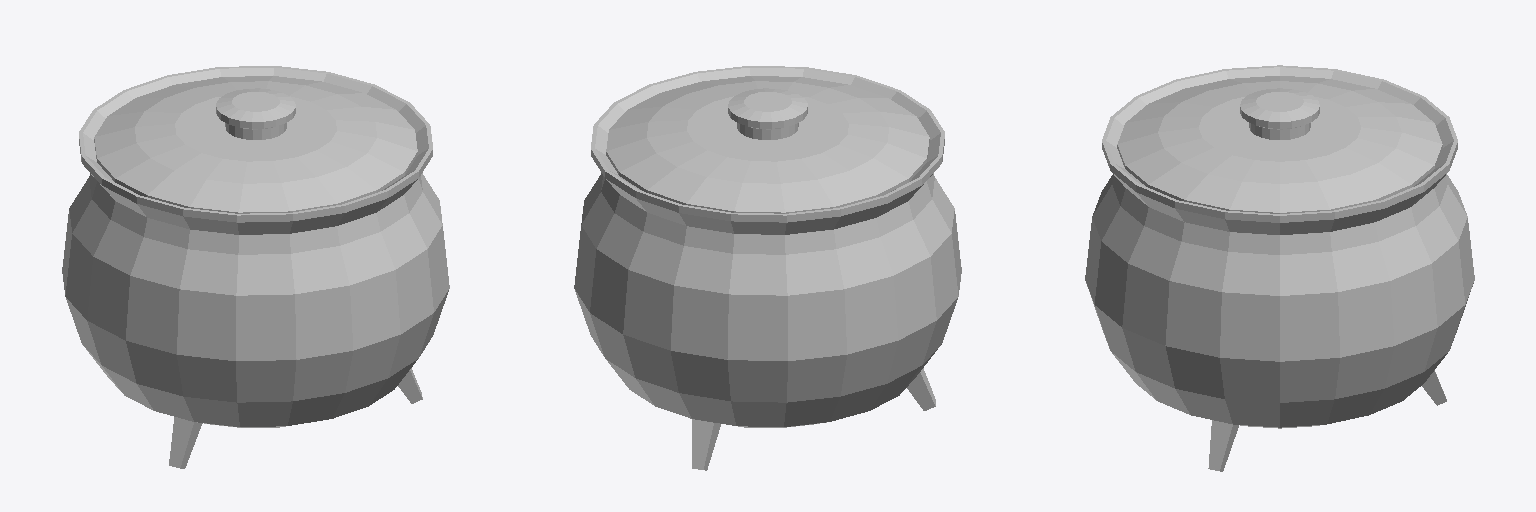
The model's file is cauldron.obj.
3 views of the same model, side by side, from view 1: azimuth 30°, elevation 25°; view 2: azimuth 150°, elevation 25°; view 3: azimuth 270°, elevation 25° (orthographic).
Parts seen in each view (by area): view 1: pCylinder1, pCylinder2; view 2: pCylinder1, pCylinder2; view 3: pCylinder1, pCylinder2.
Boxes of the visible parts, x1,y1,x2,y2 form: pCylinder1: [62, 66, 449, 468]; pCylinder2: [94, 76, 417, 213]; pCylinder1: [574, 66, 961, 470]; pCylinder2: [606, 76, 929, 213]; pCylinder1: [1085, 65, 1474, 471]; pCylinder2: [1117, 76, 1442, 213].
Size of the model in its own units: 20 by 17.46 by 20.